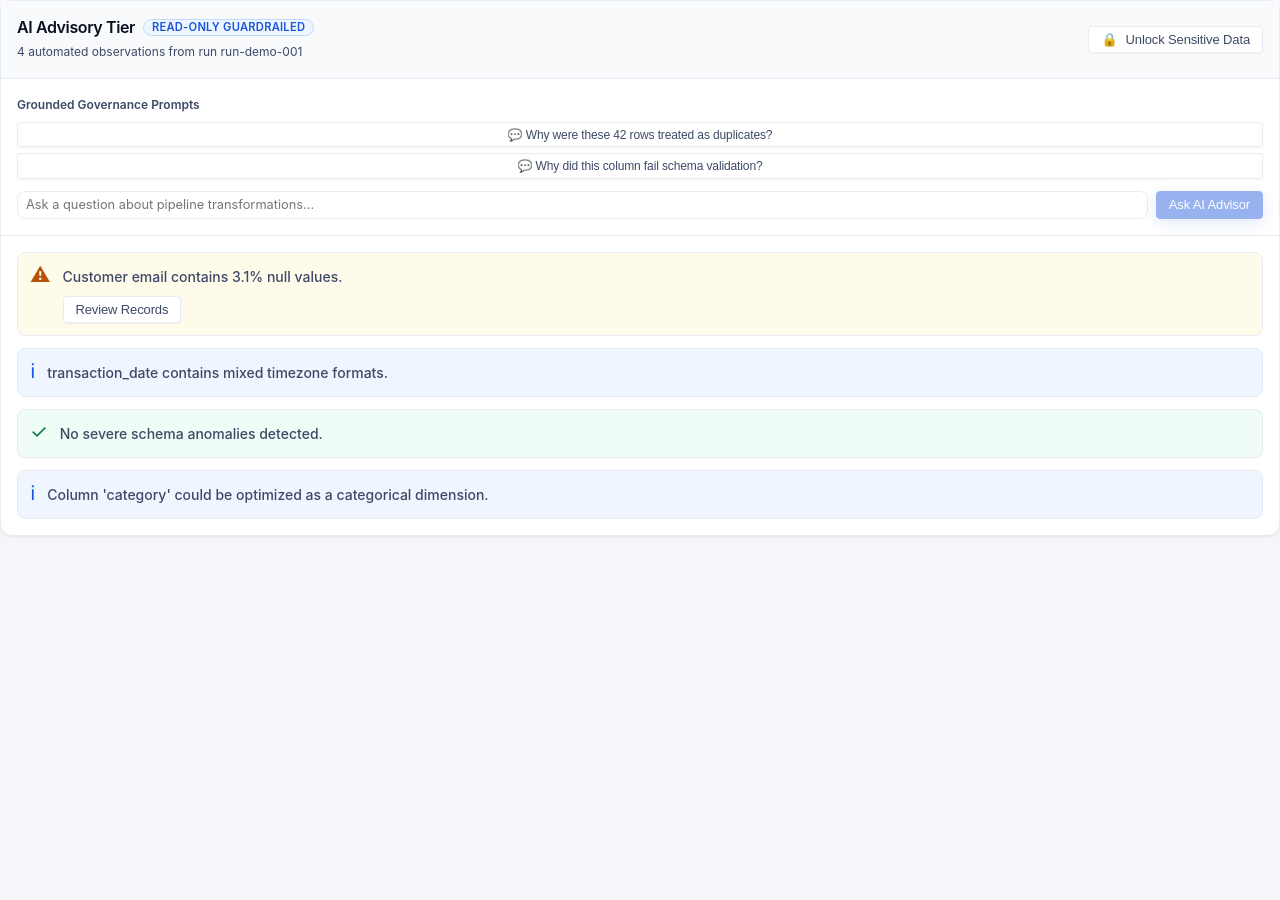
Test: AdvisoryPanel Component › executes advisory query when preset question is clicked and displays grounded response with citations
Click the button "💬 Why were these 42 rows treated as duplicates?": [640, 135] box [17,122,1263,147]
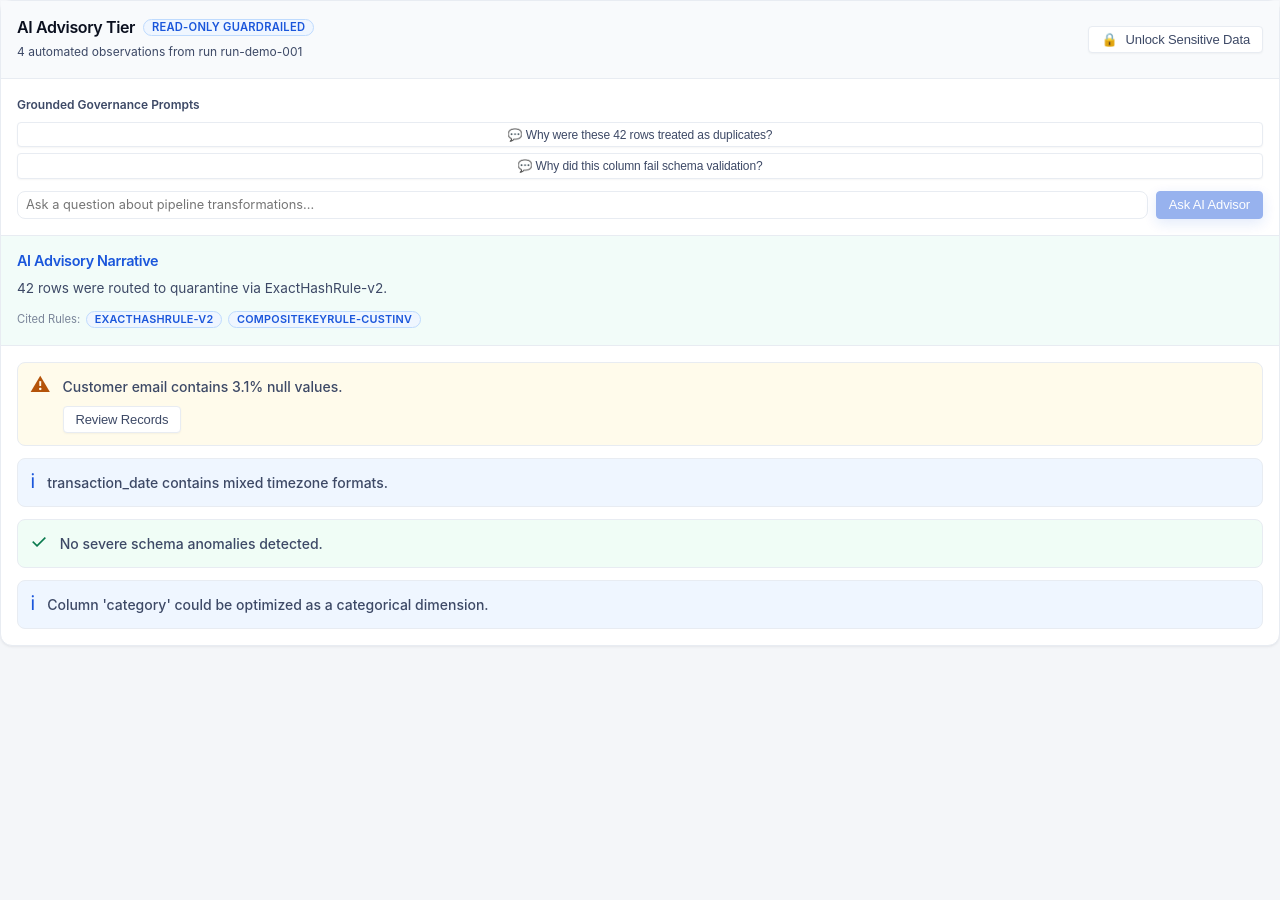
Check: the heading "AI Advisory Narrative" is shown, box [17,252,158,269]
Check: the text "42 rows were routed to quarantine via ExactHashRule-v2." is shown, box [17,280,387,296]
Check: the text "ExactHashRule-v2" is shown, box [86,311,222,328]
